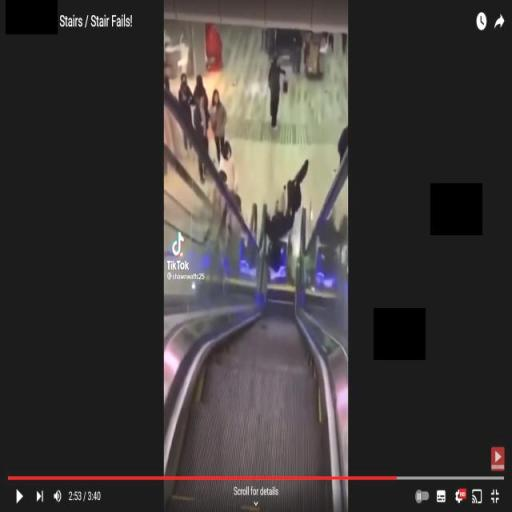Fall: (262, 182, 298, 240)
